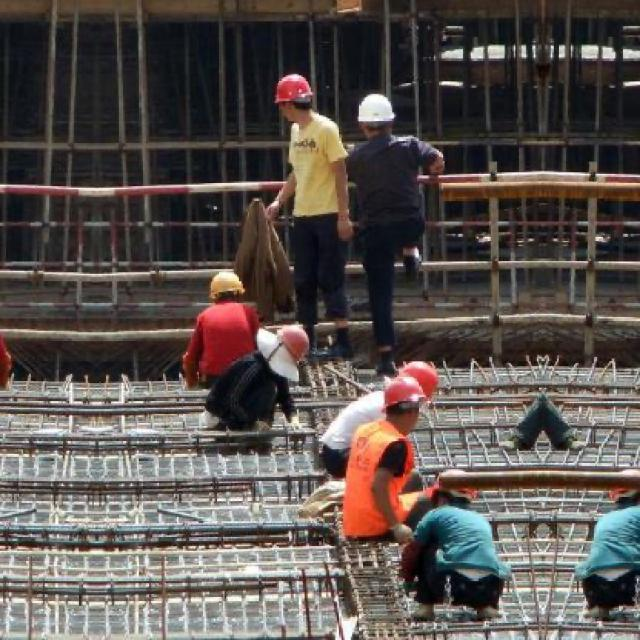helmet: (384, 374, 428, 429), (426, 468, 479, 509), (357, 88, 397, 140), (400, 358, 442, 404), (277, 72, 314, 121), (277, 324, 314, 362), (609, 466, 640, 509), (209, 268, 245, 303)
